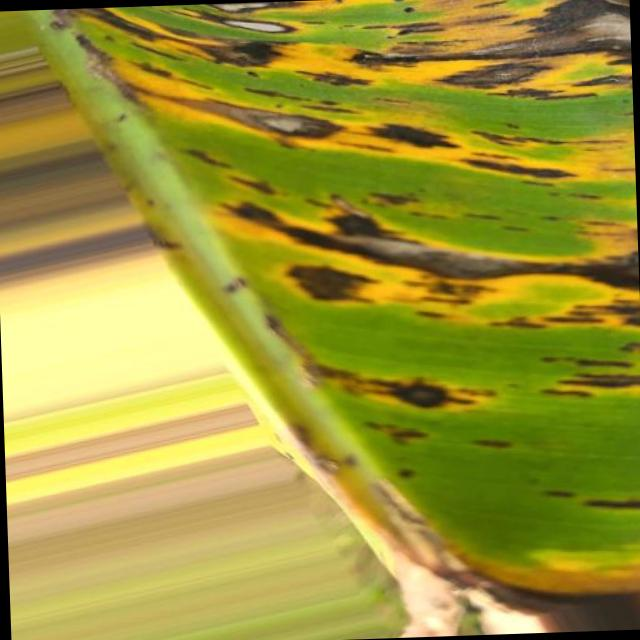Banana_Black_Sigatoka: (67, 0, 634, 184), (274, 189, 640, 443)
